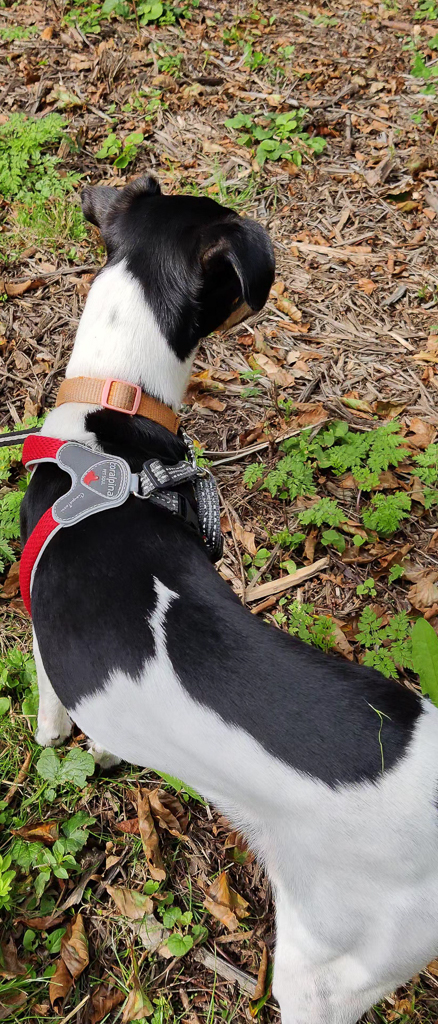Dog: (9, 165, 438, 1024)
